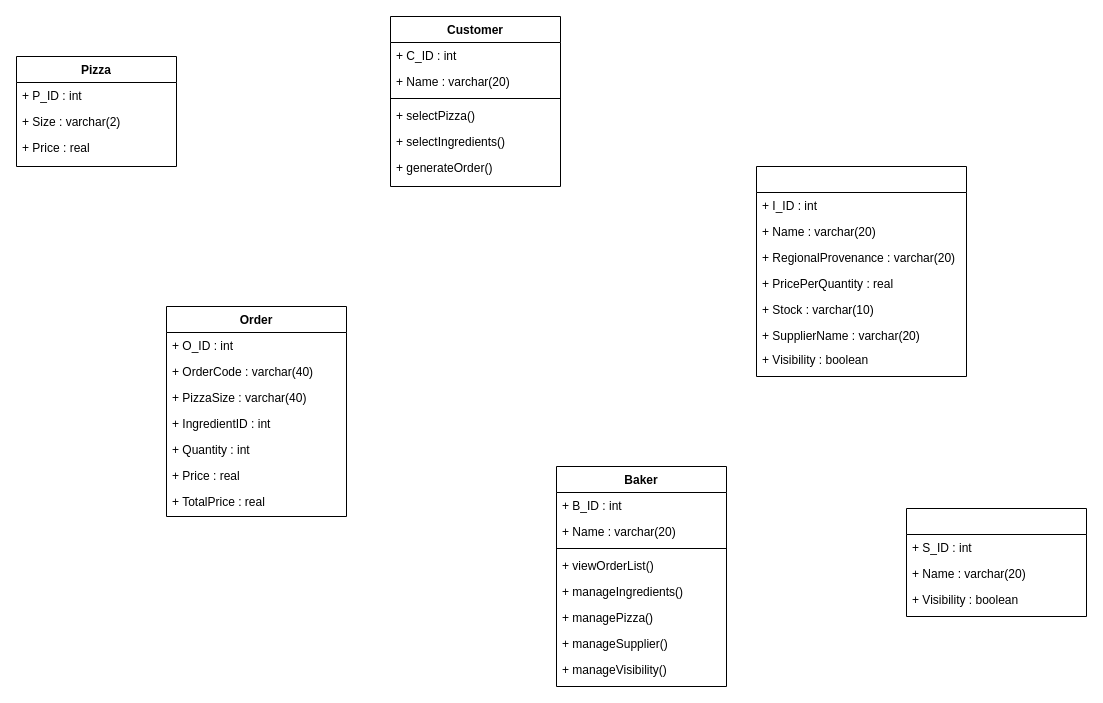
The diagram is 1103 pixels wide and 703 high, and some of its shapes have lost their labels. The shapes that lost their labels are listed below. From the top down, each one's box as (x1, y1, x2, y2) in pixels, then its label:
(756, 166, 966, 376): Ingredients
(906, 508, 1086, 616): Supplier
